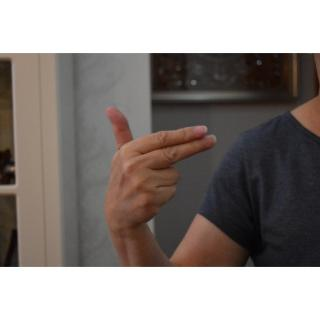GHAYN: (103, 102, 221, 235)
